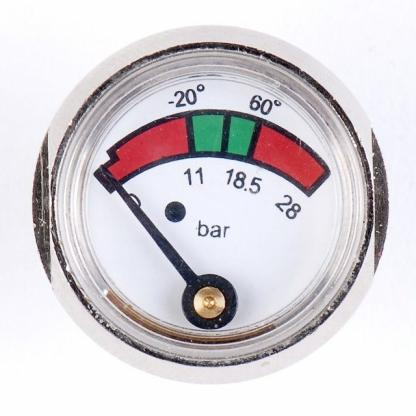needle: (97, 162, 199, 284)
